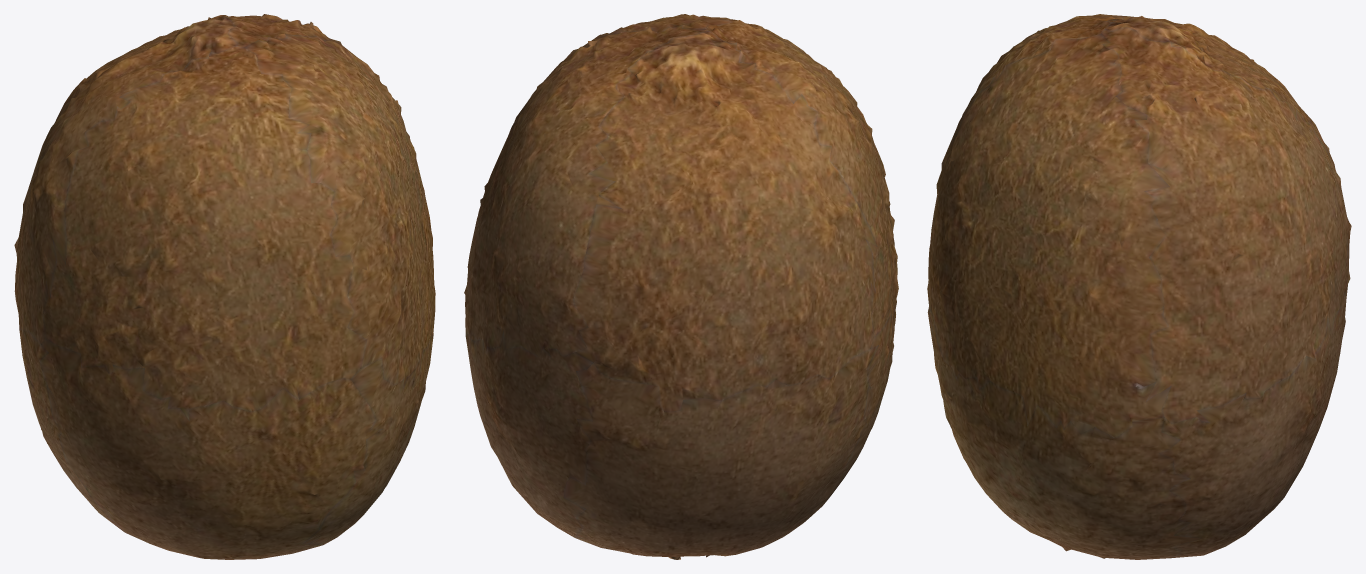
File: food_kiwi_01.glb
3 views of the same model, side by side, from view 1: azimuth 30°, elevation 25°; view 2: azimuth 150°, elevation 25°; view 3: azimuth 270°, elevation 25° (orthographic).
Parts seen in each view (by area): view 1: food_kiwi_01; view 2: food_kiwi_01; view 3: food_kiwi_01.
Part boxes in pixels (left/top/right/bottom): food_kiwi_01: left=14, top=14, right=435, bottom=559; food_kiwi_01: left=464, top=14, right=898, bottom=559; food_kiwi_01: left=927, top=14, right=1351, bottom=559.
Size of the model in its own units: 0.0695 by 0.0901 by 0.0686.
1 material, 1 textured.
